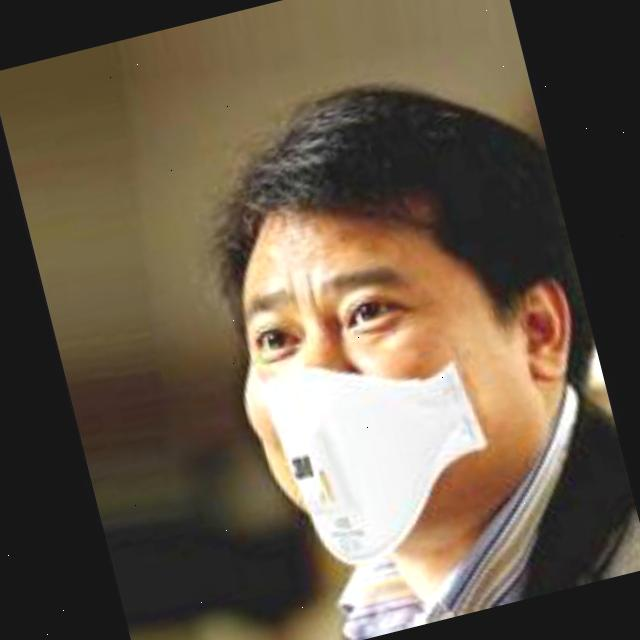suspicion: (176, 148, 624, 622)
